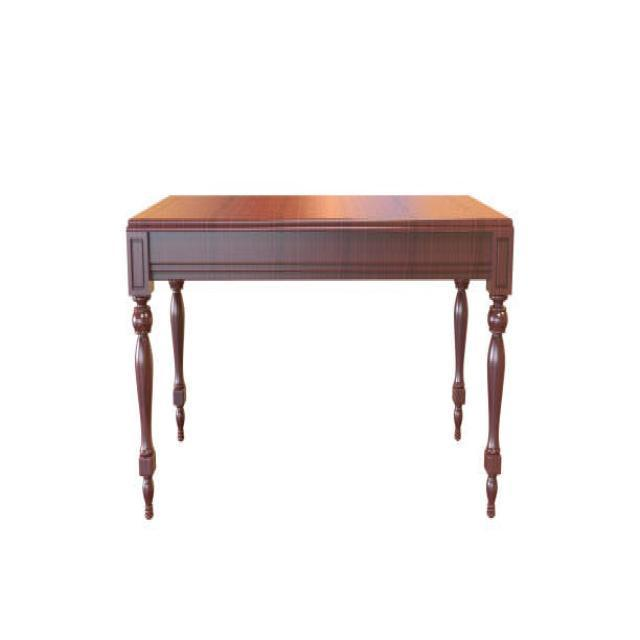table: (124, 192, 514, 522)
